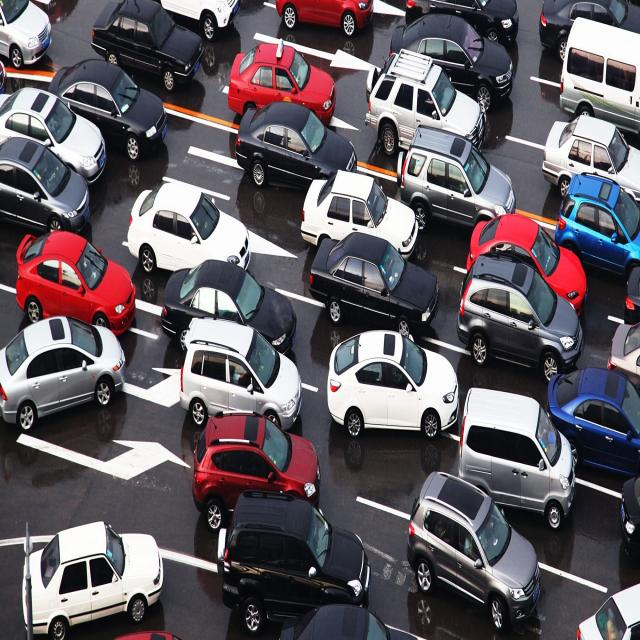car: (409, 463, 541, 629), (218, 487, 371, 626), (23, 519, 162, 640), (192, 403, 321, 531), (459, 252, 583, 379), (327, 328, 459, 441), (0, 314, 126, 429), (364, 50, 485, 169), (182, 314, 302, 431), (400, 124, 515, 244), (309, 230, 441, 334), (163, 256, 296, 356), (49, 58, 168, 166), (237, 99, 358, 203), (127, 182, 252, 282), (16, 228, 135, 333), (468, 211, 586, 313), (551, 166, 640, 278), (0, 132, 90, 240), (93, 0, 202, 89), (231, 40, 336, 128), (544, 114, 640, 191)
